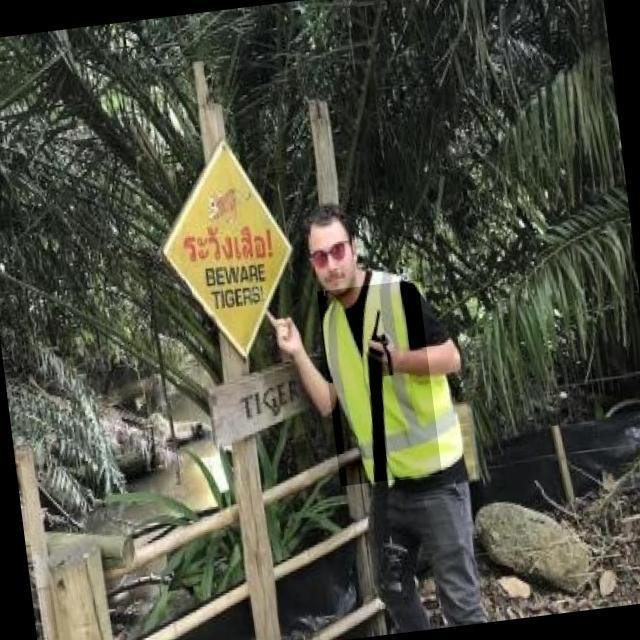Person: (248, 188, 525, 640)
Safety Vest: (317, 279, 442, 486)
bare-arms: (259, 299, 317, 365), (368, 315, 404, 391)
no-helmet: (299, 198, 362, 250)
